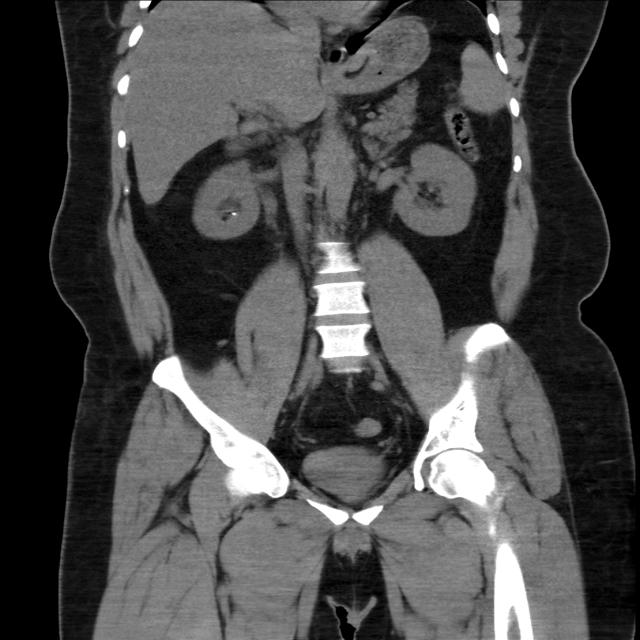kidneystone: (226, 210, 239, 218)
